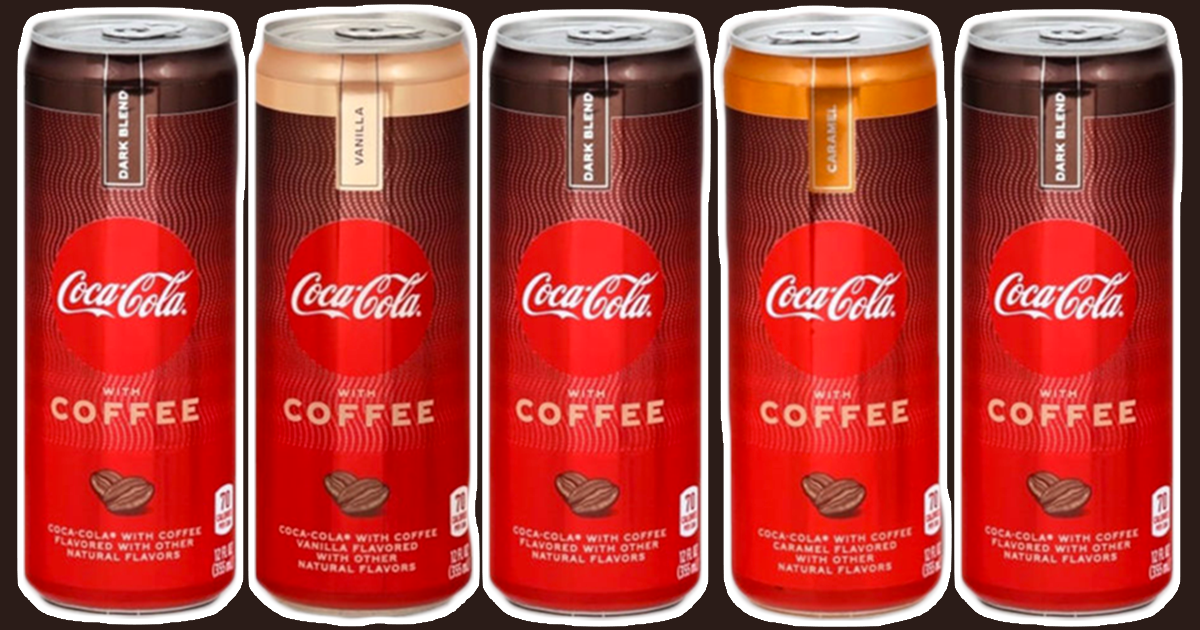Coca-Cola: (241, 4, 464, 623), (14, 10, 236, 630), (954, 3, 1176, 623), (483, 10, 705, 630), (726, 1, 948, 619)
